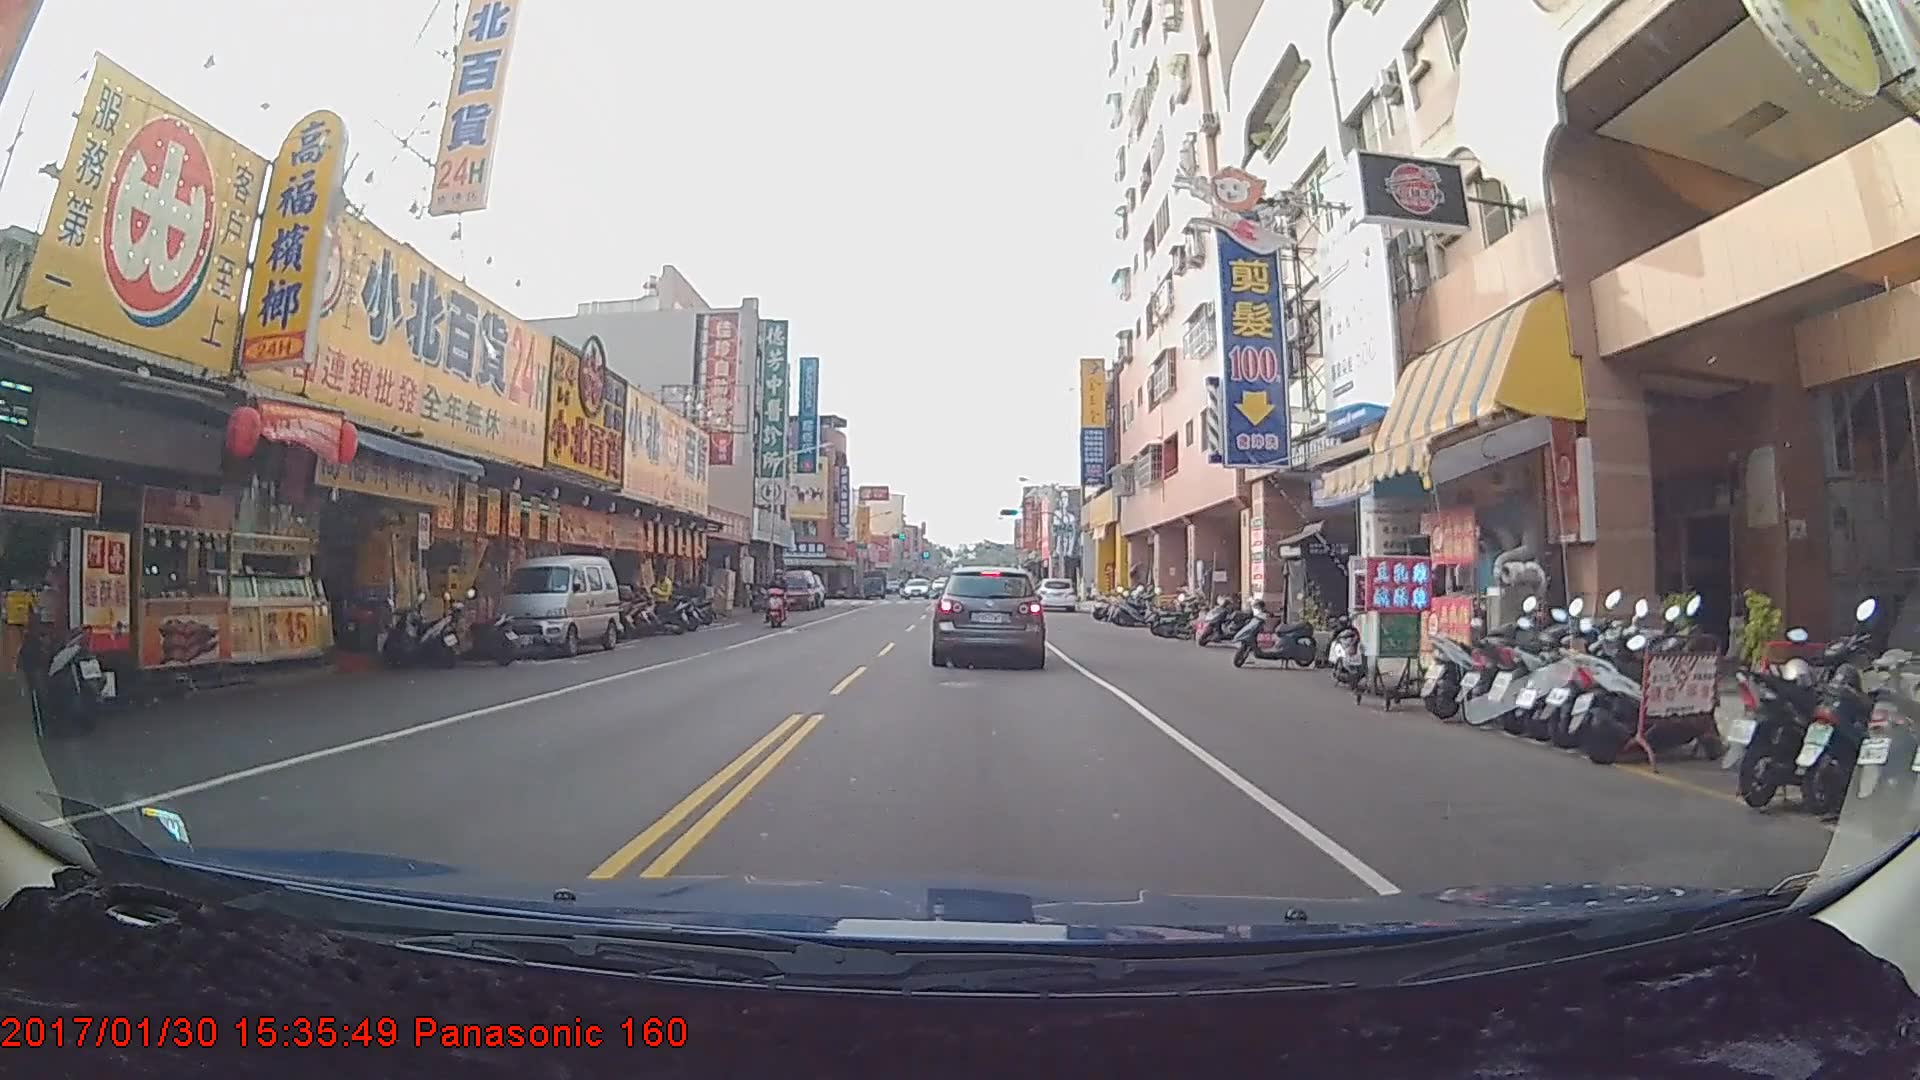pedestrian: (647, 569, 674, 630)
rider: (769, 567, 797, 629)
vehicle: (485, 555, 616, 659), (934, 562, 1045, 668), (776, 568, 817, 610), (1033, 577, 1077, 613), (903, 579, 930, 600)
